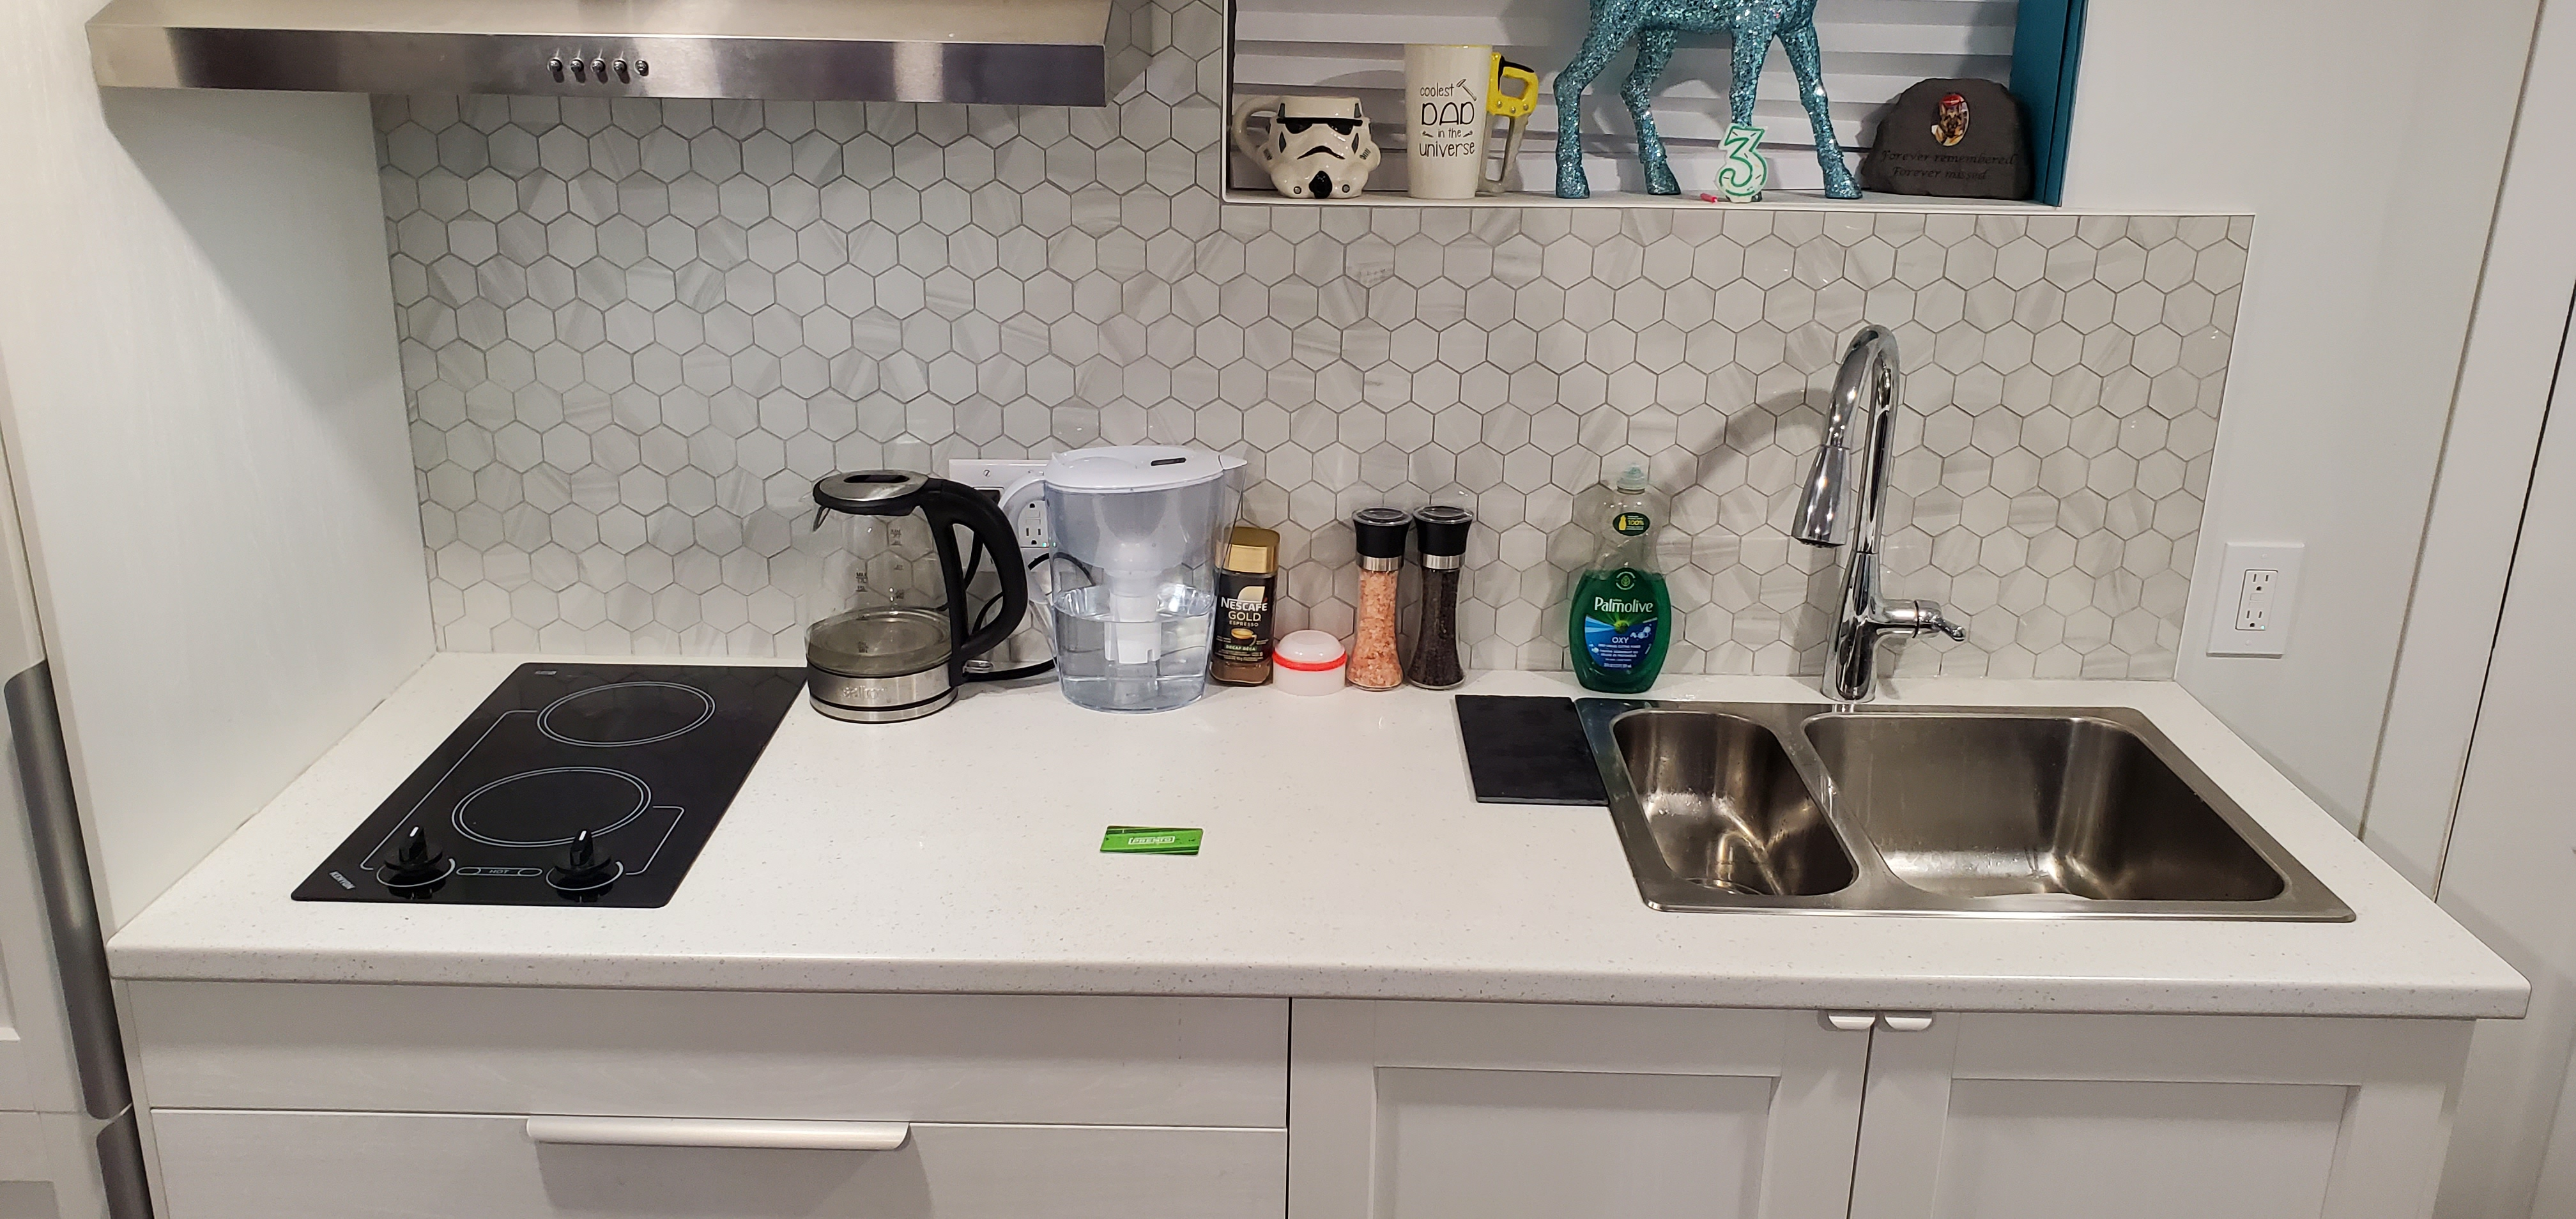cooktop: (281, 659, 828, 905)
giftcard: (1101, 818, 1203, 858)
sink: (1562, 690, 2374, 938)
